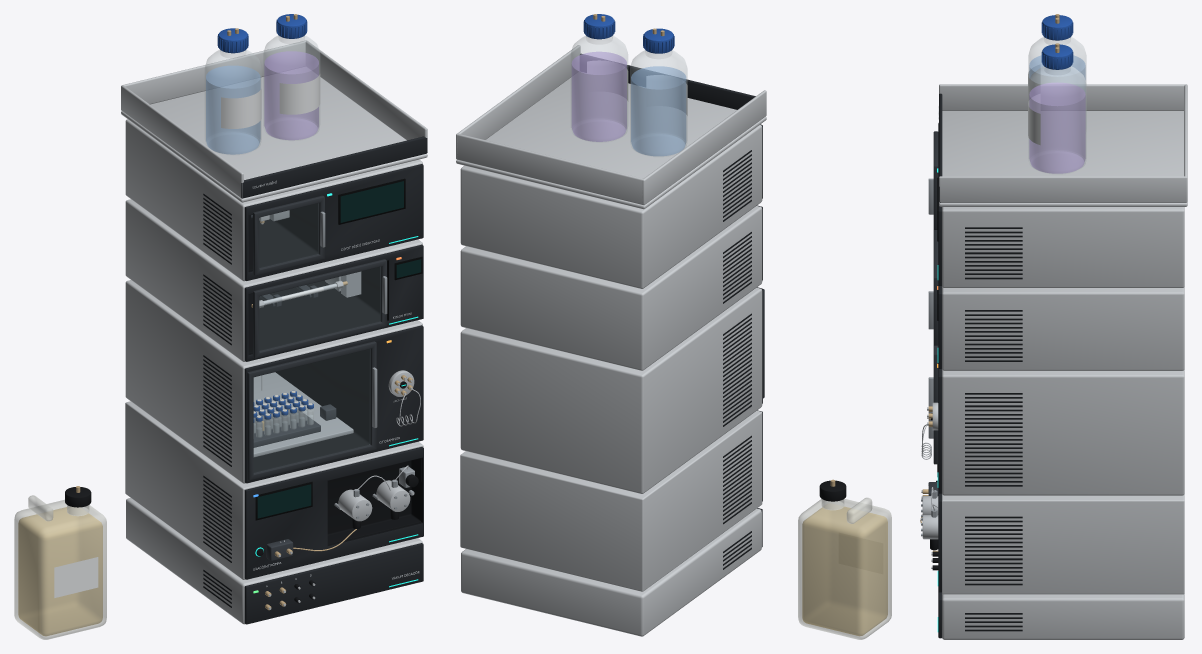
Rendered from hplc-system.glb.
3 renders of one model, left to right at view 1: azimuth 30°, elevation 25°; view 2: azimuth 150°, elevation 25°; view 3: azimuth 270°, elevation 25°, orthographic. The views are drawn at different scales.
Parts seen in each view (by area): view 1: bottles_PowderCoat, autosampler_Interior_PowderCoat, oven_Interior_PowderCoat, pump_Interior_PowderCoat, detector_Interior_PowderCoat, autosampler_GlassSmoked, waste_GlassHDPE, bottles_GlassBottle, pump_Fascia_Interior, liquid_waste, degasser_Fascia, detector_Fascia_Interior (+27 smaller); view 2: autosampler_Interior_PowderCoat, pump_Interior_PowderCoat, bottles_PowderCoat, oven_Interior_PowderCoat, detector_Interior_PowderCoat, degasser_PowderCoat, waste_GlassHDPE, bottles_GlassBottle, liquid_waste, liquid_B, liquid_A, bottles_Fascia (+7 smaller); view 3: bottles_PowderCoat, autosampler_Interior_PowderCoat, pump_Interior_PowderCoat, oven_Interior_PowderCoat, detector_Interior_PowderCoat, degasser_PowderCoat, bottles_GlassBottle, liquid_B, autosampler_VentDark, pump_VentDark, detector_VentDark, oven_VentDark (+12 smaller).
Boxes of the visible parts, x1=… form: bottles_PowderCoat: x1=121, y1=40, x2=427, y2=202; autosampler_Interior_PowderCoat: x1=125, y1=280, x2=422, y2=483; oven_Interior_PowderCoat: x1=125, y1=199, x2=422, y2=361; pump_Interior_PowderCoat: x1=125, y1=401, x2=423, y2=579; detector_Interior_PowderCoat: x1=125, y1=119, x2=422, y2=281; autosampler_GlassSmoked: x1=254, y1=349, x2=369, y2=472; waste_GlassHDPE: x1=14, y1=495, x2=106, y2=639; bottles_GlassBottle: x1=205, y1=35, x2=319, y2=154; pump_Fascia_Interior: x1=244, y1=447, x2=423, y2=579; liquid_waste: x1=18, y1=507, x2=102, y2=636; degasser_Fascia: x1=244, y1=543, x2=423, y2=624; detector_Fascia_Interior: x1=244, y1=164, x2=423, y2=280; autosampler_Interior_PowderCoat: x1=460, y1=287, x2=762, y2=493; pump_Interior_PowderCoat: x1=460, y1=410, x2=762, y2=591; bottles_PowderCoat: x1=456, y1=45, x2=766, y2=209; oven_Interior_PowderCoat: x1=460, y1=206, x2=762, y2=370; detector_Interior_PowderCoat: x1=460, y1=125, x2=762, y2=288; degasser_PowderCoat: x1=461, y1=508, x2=761, y2=636; waste_GlassHDPE: x1=798, y1=497, x2=891, y2=639; bottles_GlassBottle: x1=571, y1=36, x2=687, y2=156; liquid_waste: x1=802, y1=506, x2=887, y2=636; liquid_B: x1=571, y1=51, x2=626, y2=141; liquid_A: x1=631, y1=66, x2=686, y2=156; bottles_Fascia: x1=580, y1=53, x2=755, y2=109; bottles_PowderCoat: x1=939, y1=84, x2=1187, y2=206; autosampler_Interior_PowderCoat: x1=942, y1=369, x2=1184, y2=495; pump_Interior_PowderCoat: x1=942, y1=494, x2=1184, y2=594; oven_Interior_PowderCoat: x1=942, y1=287, x2=1184, y2=370; detector_Interior_PowderCoat: x1=942, y1=207, x2=1184, y2=287; degasser_PowderCoat: x1=942, y1=594, x2=1184, y2=639; bottles_GlassBottle: x1=1028, y1=37, x2=1086, y2=173; liquid_B: x1=1029, y1=82, x2=1085, y2=173; autosampler_VentDark: x1=965, y1=393, x2=1022, y2=486; pump_VentDark: x1=965, y1=516, x2=1022, y2=585; detector_VentDark: x1=965, y1=227, x2=1022, y2=279; oven_VentDark: x1=965, y1=310, x2=1022, y2=361.
Bounding box in the file's own units: 0.716 × 1.07 × 0.4621.
